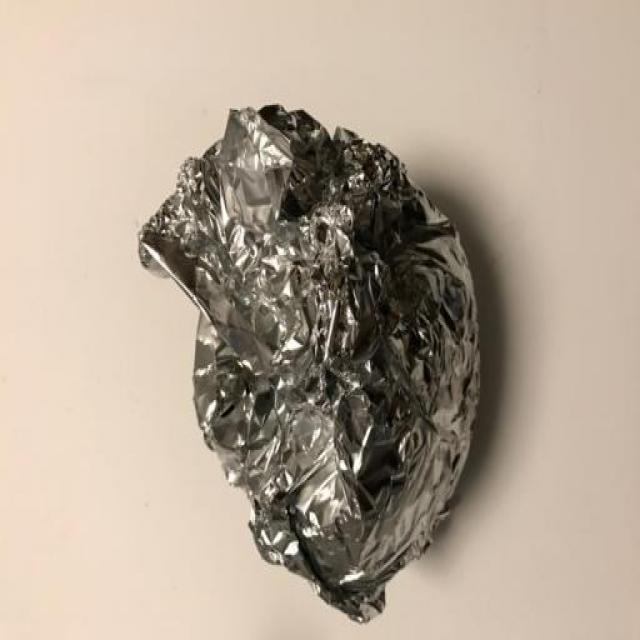others: (111, 86, 490, 640)
